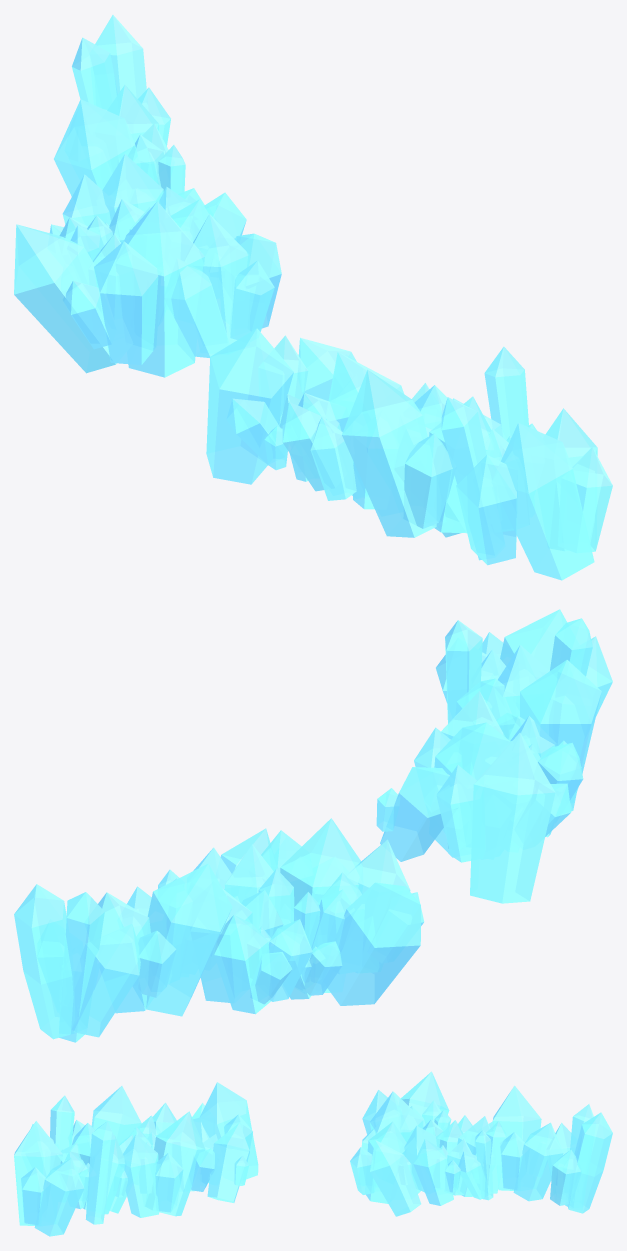
File: Kristalle_3.fbx
3 views of the same model, one above another, from view 1: azimuth 30°, elevation 25°; view 2: azimuth 150°, elevation 25°; view 3: azimuth 270°, elevation 25° (orthographic). The views are drawn at different scales.
Visible parts, largest first — view 1: Steinkliff.001; view 2: Steinkliff.001; view 3: Steinkliff.001.
Part boxes in pixels (x1,y1,x2,y2): Steinkliff.001: [14, 15, 612, 580]; Steinkliff.001: [14, 609, 612, 1042]; Steinkliff.001: [14, 1071, 612, 1236].
Bounding box in the file's own units: 181 × 128 × 551.
